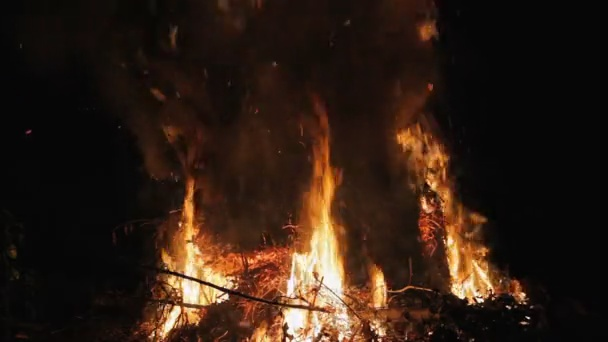fire: (407, 123, 496, 304), (283, 149, 349, 342), (157, 224, 234, 337), (365, 269, 387, 309)
